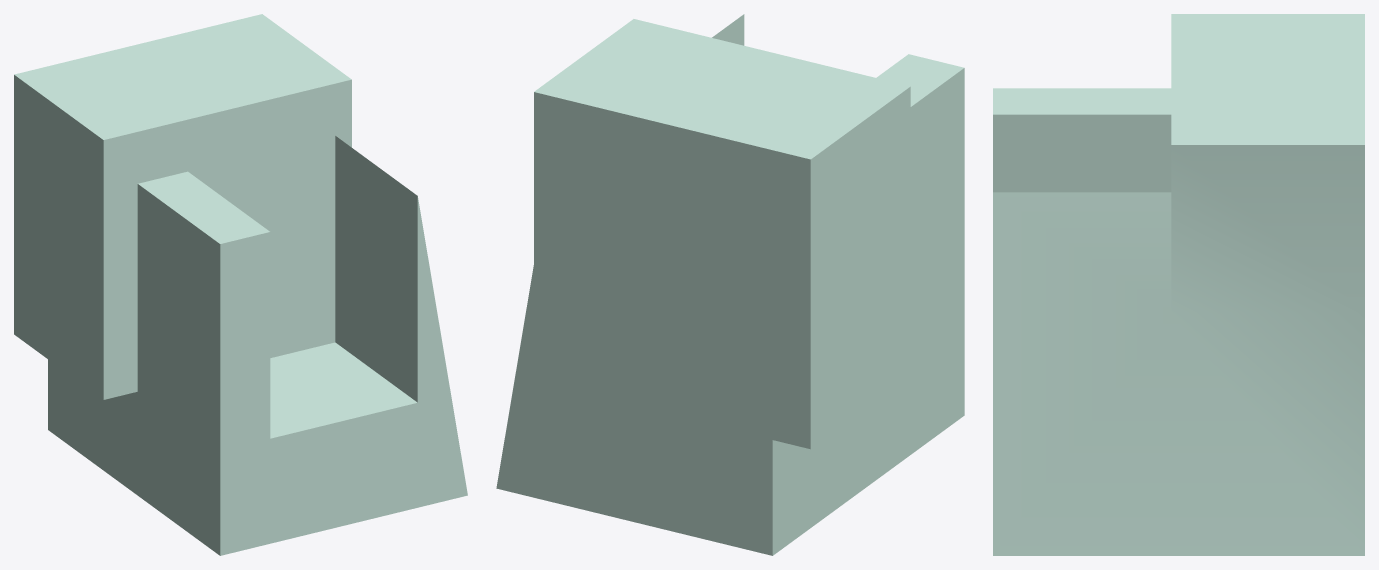
3 renders of one model, left to right at view 1: azimuth 30°, elevation 25°; view 2: azimuth 150°, elevation 25°; view 3: azimuth 270°, elevation 25°, orthographic. The views are drawn at different scales.
Parts seen in each view (by area): view 1: Renderer Node; view 2: Renderer Node; view 3: Renderer Node.
Part boxes in pixels (x1,y1,x2,y2): Renderer Node: (14, 14, 467, 555); Renderer Node: (496, 14, 964, 555); Renderer Node: (993, 14, 1364, 555).
Bounding box in the file's own units: 0.7096 × 0.875 × 0.75.
